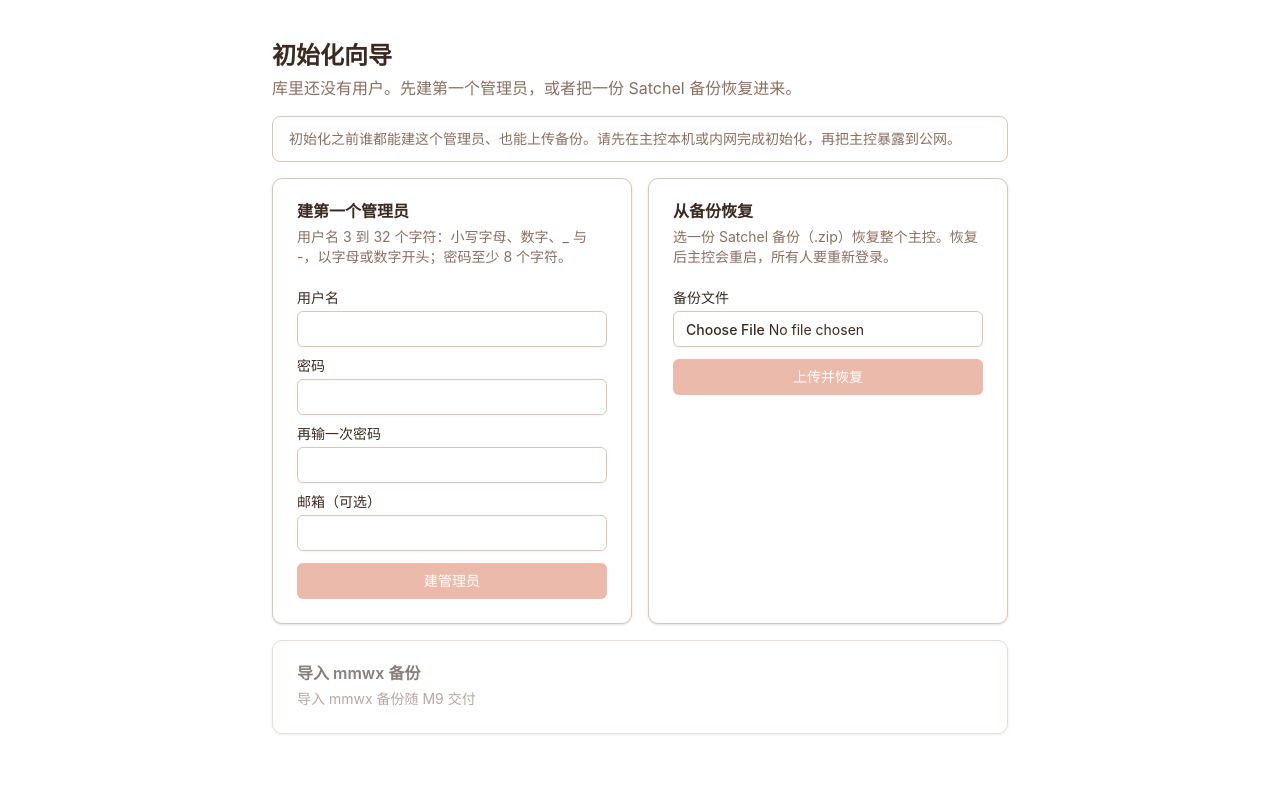
Test: 初始化向导 › 建管理员：成功后已经登录，进首页
Type "admin" into the field labelled "用户名" at [452, 329], box [297, 311, 607, 347]
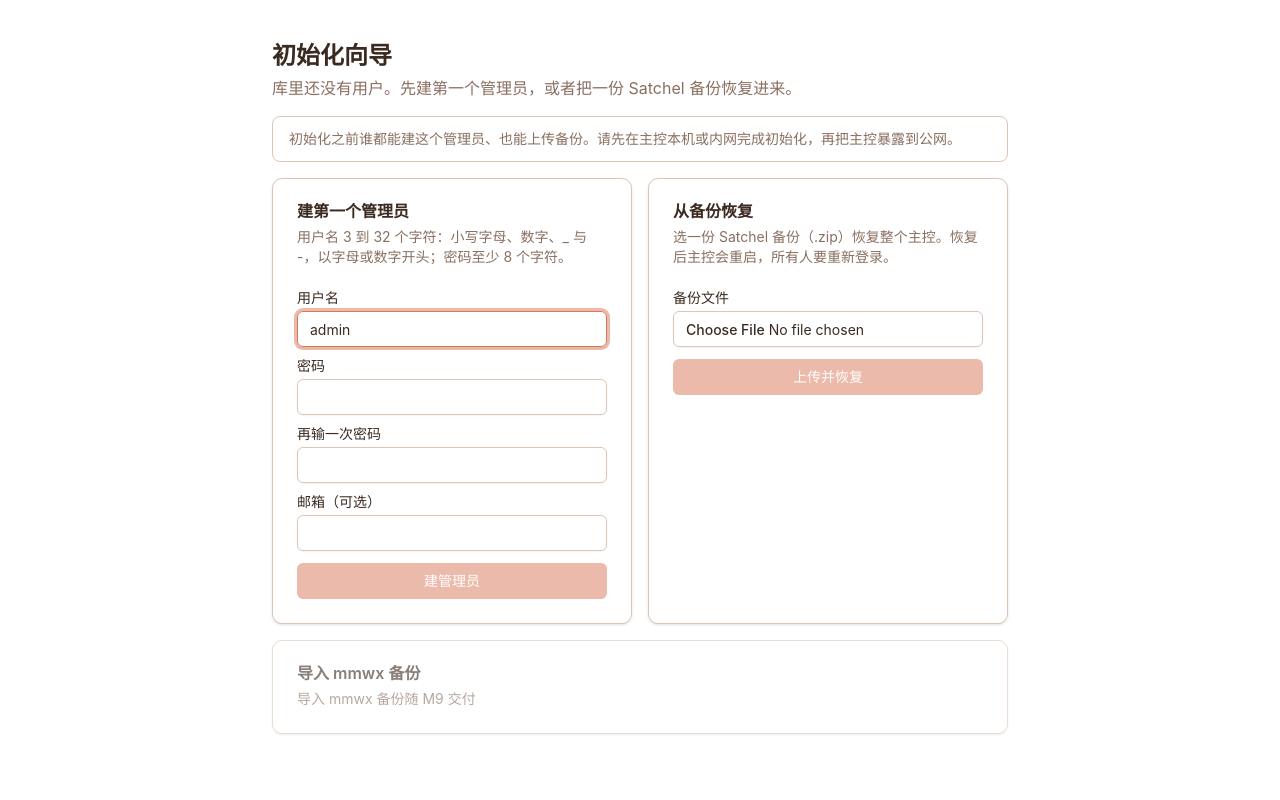
Type "secret12" into the password field labelled "密码" at [452, 397], box [297, 379, 607, 415]
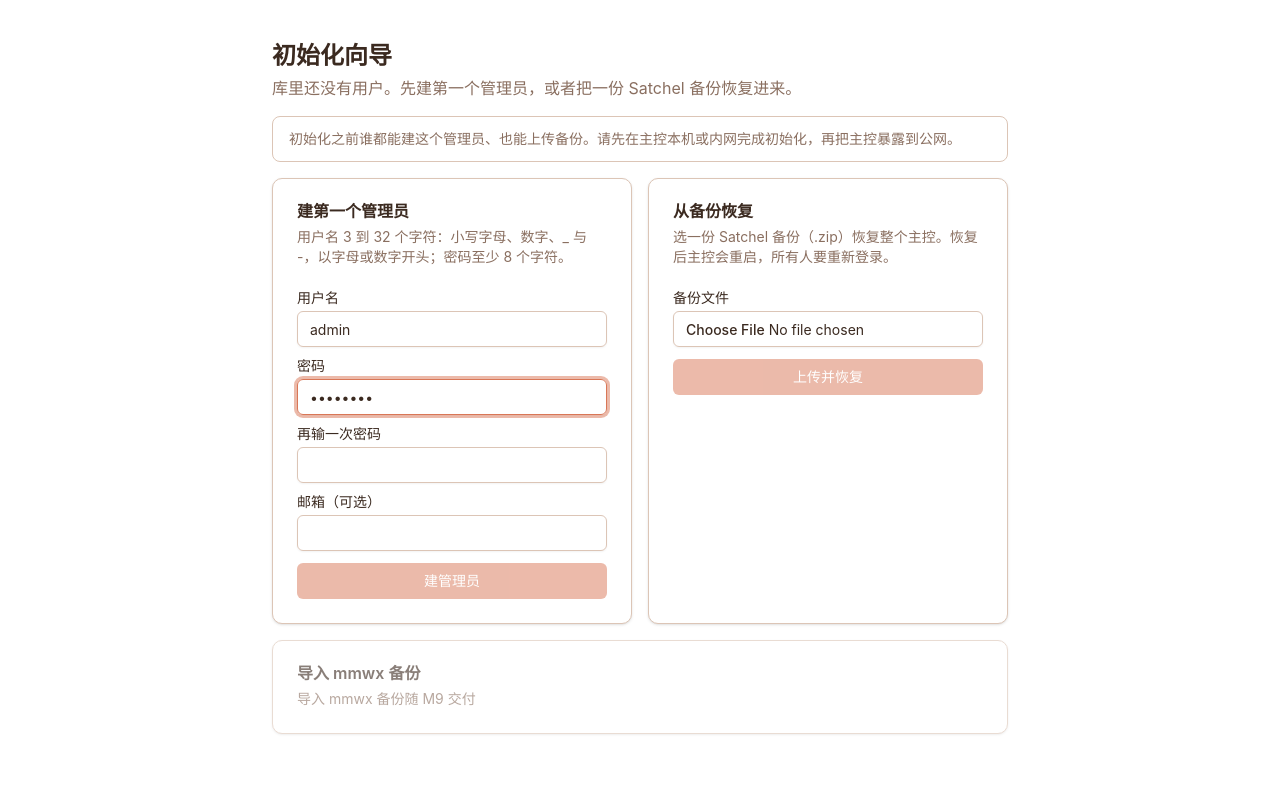
Type "secret12" into the password field labelled "再输一次密码" at [452, 465], box [297, 447, 607, 483]
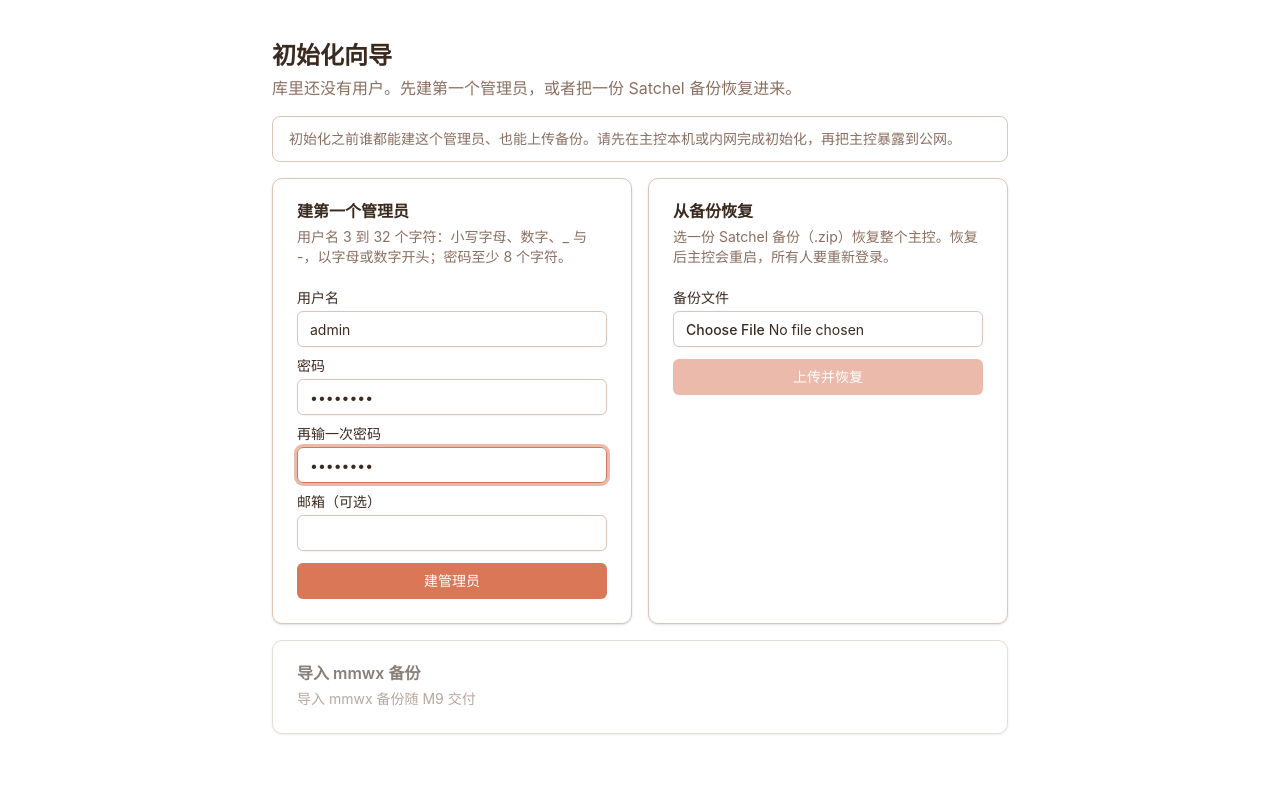
Click the button "建管理员" at [452, 581], box [297, 563, 607, 599]
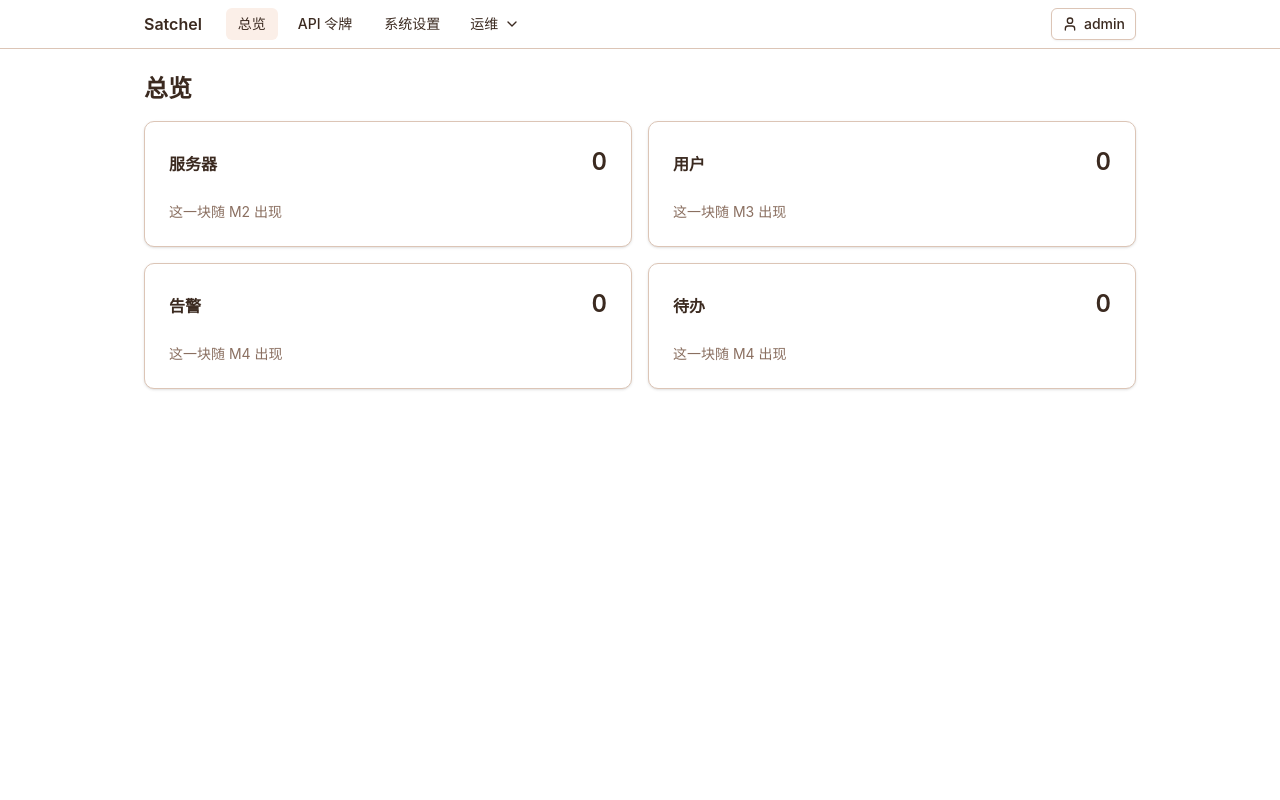
expect the link "API 令牌" is shown: met, box [298, 15, 352, 32]
